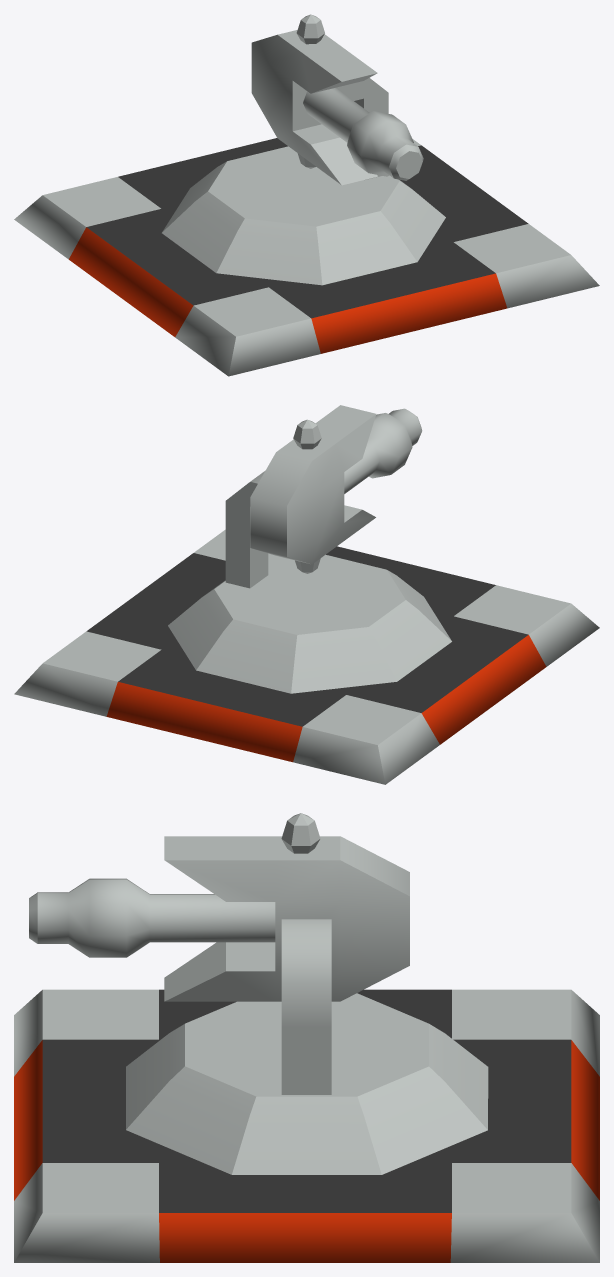
Rendered from rapid fire tower.fbx.
3 renders of one model, top to bottom at view 1: azimuth 30°, elevation 25°; view 2: azimuth 150°, elevation 25°; view 3: azimuth 270°, elevation 25°, orthographic. The views are drawn at different scales.
Visible parts, largest first — view 1: rapid fire tower; view 2: rapid fire tower; view 3: rapid fire tower.
Part boxes in pixels (left/top/right/bottom): rapid fire tower: left=14, top=14, right=599, bottom=376; rapid fire tower: left=14, top=405, right=599, bottom=784; rapid fire tower: left=14, top=813, right=599, bottom=1262.
Bounding box in the file's own units: 400 × 246 × 400.
